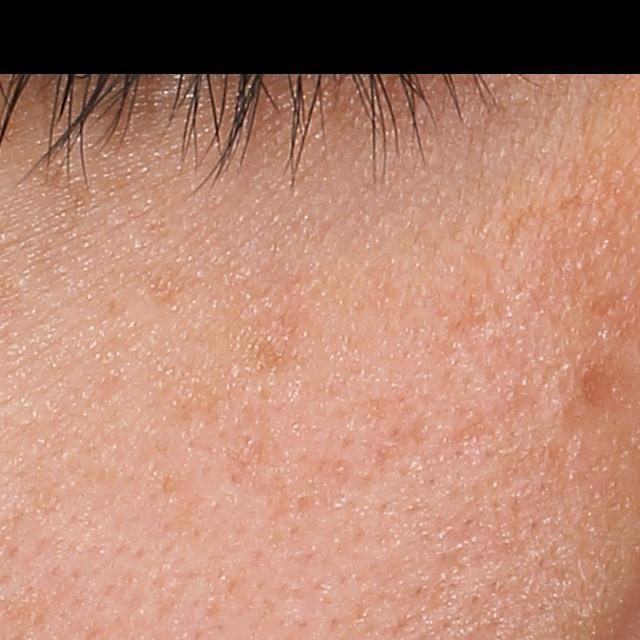melasma: (562, 348, 624, 450), (501, 190, 592, 254), (138, 257, 193, 309), (575, 282, 632, 326)
